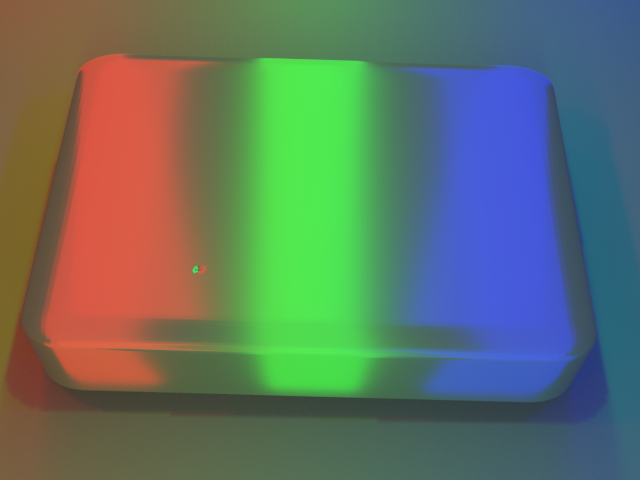dent: (169, 255, 201, 286)
